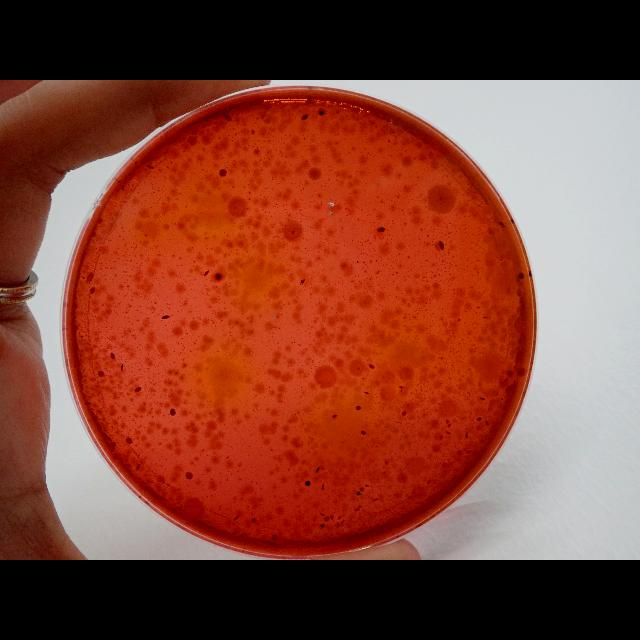colony: (438, 240, 446, 250), (185, 471, 193, 481), (218, 168, 228, 176), (222, 113, 232, 121), (160, 314, 172, 320), (498, 221, 506, 229), (214, 272, 222, 280), (170, 408, 177, 417), (376, 226, 386, 232), (518, 272, 524, 280), (476, 416, 484, 422), (251, 516, 257, 524), (126, 436, 132, 444), (134, 387, 142, 393), (98, 370, 104, 378), (110, 352, 116, 360), (90, 286, 96, 294), (90, 230, 96, 238), (146, 164, 154, 170), (301, 114, 309, 120), (204, 269, 210, 277), (300, 278, 306, 286), (368, 364, 376, 370), (518, 369, 524, 377), (484, 419, 490, 426), (135, 464, 141, 471), (401, 409, 407, 416), (446, 422, 452, 428), (305, 480, 311, 486), (233, 515, 239, 521), (272, 534, 278, 540), (318, 110, 324, 116), (355, 405, 361, 411), (360, 430, 366, 436), (398, 384, 404, 390), (364, 390, 370, 396), (364, 482, 370, 488), (359, 486, 365, 492), (528, 270, 532, 278), (479, 397, 487, 401), (465, 431, 469, 439), (120, 363, 124, 371), (508, 370, 512, 378), (445, 430, 451, 434), (445, 418, 449, 424), (466, 450, 472, 454), (357, 490, 361, 496), (319, 512, 325, 516), (320, 523, 324, 529), (354, 508, 360, 512), (330, 514, 334, 520), (316, 466, 320, 472), (510, 218, 514, 224), (291, 229, 295, 235), (441, 434, 444, 440), (336, 522, 339, 528), (374, 497, 378, 501), (338, 516, 342, 520), (341, 520, 345, 524), (82, 276, 86, 280), (332, 414, 336, 418), (322, 483, 324, 489), (358, 506, 362, 508), (400, 388, 402, 392), (362, 376, 364, 379), (303, 137, 305, 139), (306, 160, 308, 162)
